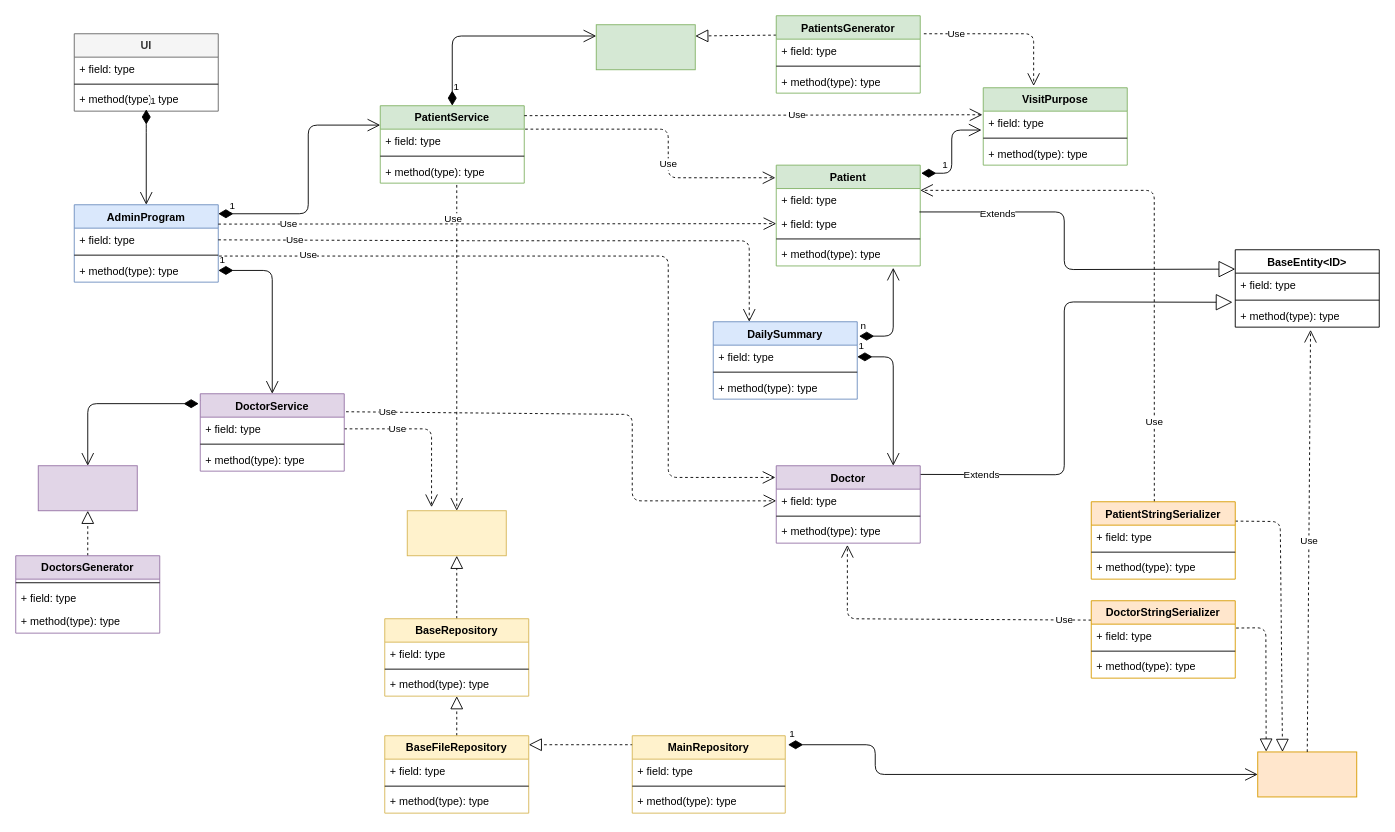
The diagram is 1395 pixels wide and 832 high, and some of its shapes have lost their labels. The centre of each missing label's shape, as x and y in pixels:
"«interface» DoctorsGenerator" belongs at point 87,488.
"«interface» IRepository" belongs at point 456,533.
"«interface» ISerializer" belongs at point 1307,774.
"«interface» PatientGenerator" belongs at point 645,47.
